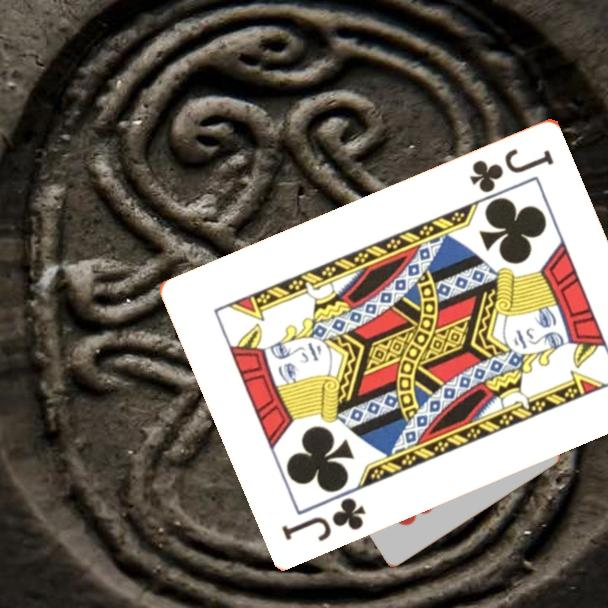c11: (466, 144, 558, 195), (278, 493, 369, 544)
